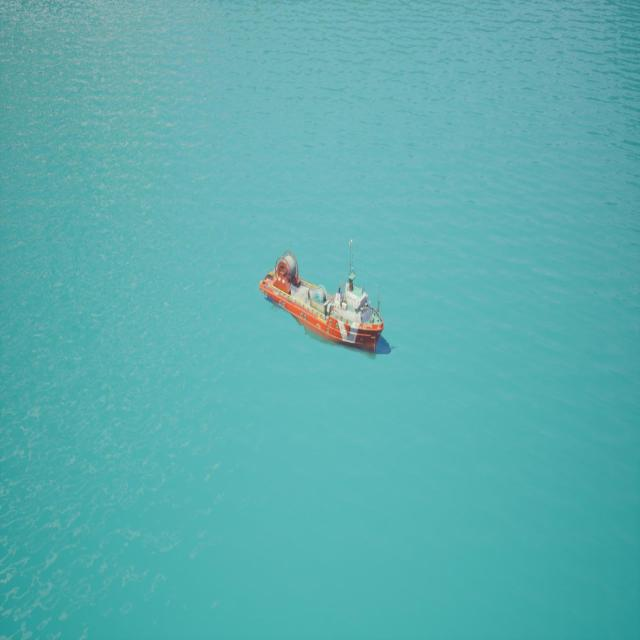tug boat: (256, 239, 391, 382)
